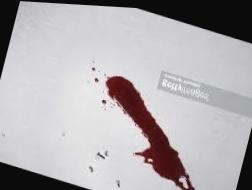Fire: (103, 74, 195, 190)
